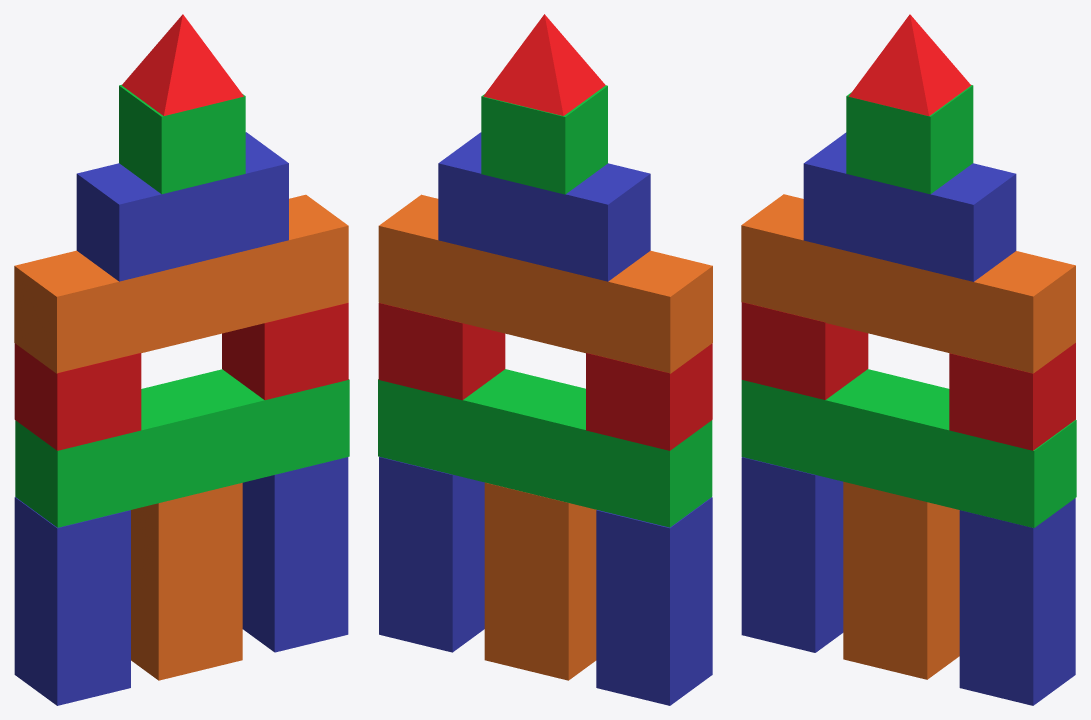
3 views of the same model, side by side, from view 1: azimuth 30°, elevation 25°; view 2: azimuth 150°, elevation 25°; view 3: azimuth 330°, elevation 25° (orthographic).
Visible parts, largest first — view 1: root (×10); view 2: root (×10); view 3: root (×10).
Boxes of the visible parts, <box> form: root (×10): <box>14,14,349,705</box>; root (×10): <box>378,14,712,705</box>; root (×10): <box>741,14,1076,705</box>.
Bounding box in the file's own units: 0.1349 × 0.2821 × 0.0343.
10 materials, 10 textured.
